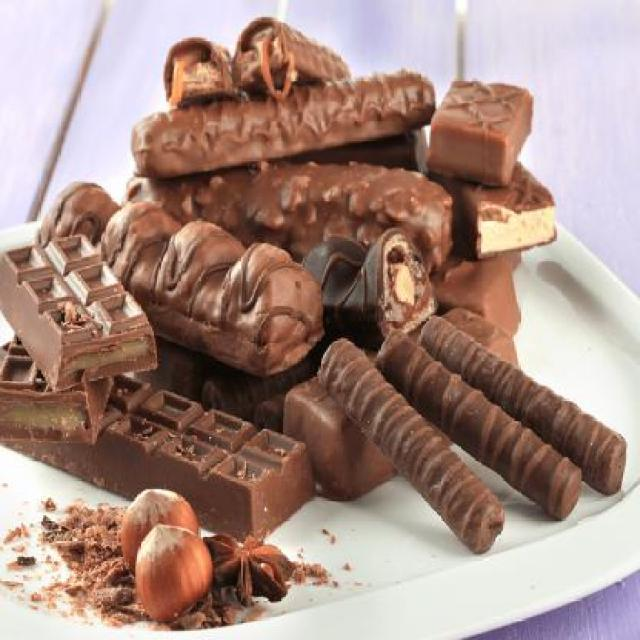Chocolate bar packaged: (1, 337, 320, 546), (33, 180, 330, 376), (317, 336, 506, 556), (376, 330, 584, 528), (119, 162, 458, 272), (130, 73, 436, 158), (2, 234, 162, 380), (302, 233, 441, 341), (429, 73, 540, 184), (451, 154, 560, 262), (234, 10, 362, 84), (158, 30, 235, 106)
